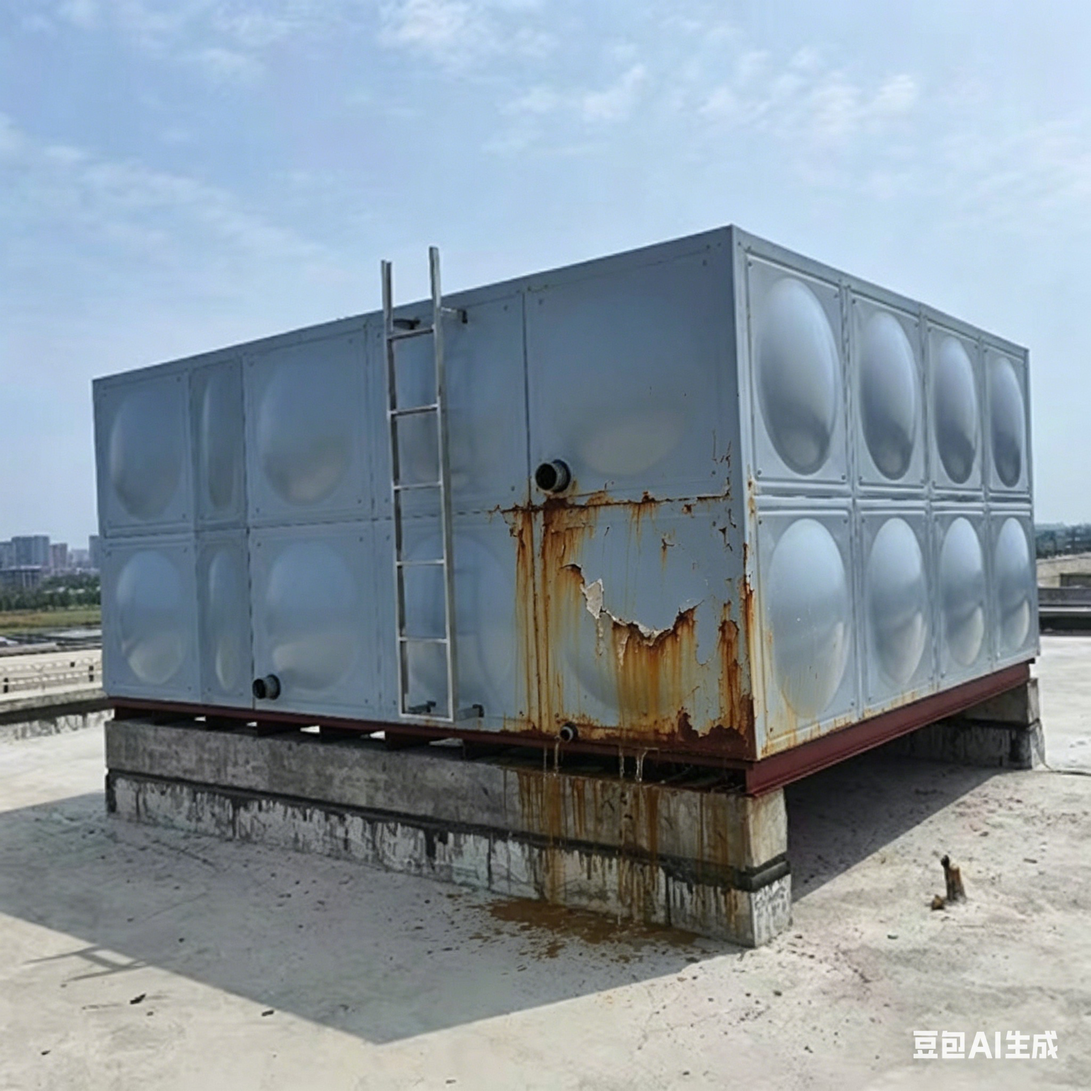Leakage: (449, 722, 704, 808)
